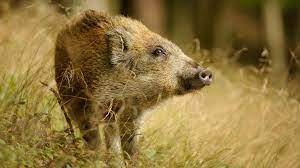wildboar: (53, 7, 215, 167)
